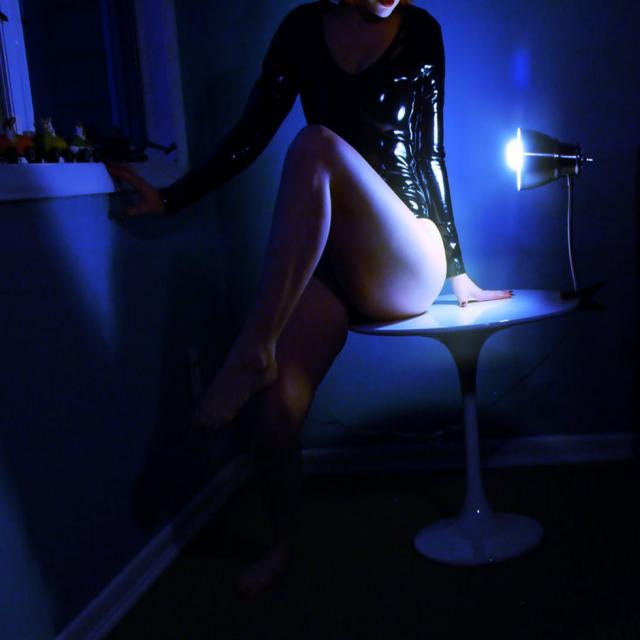People: (120, 6, 470, 475)
Table: (354, 247, 603, 603)
